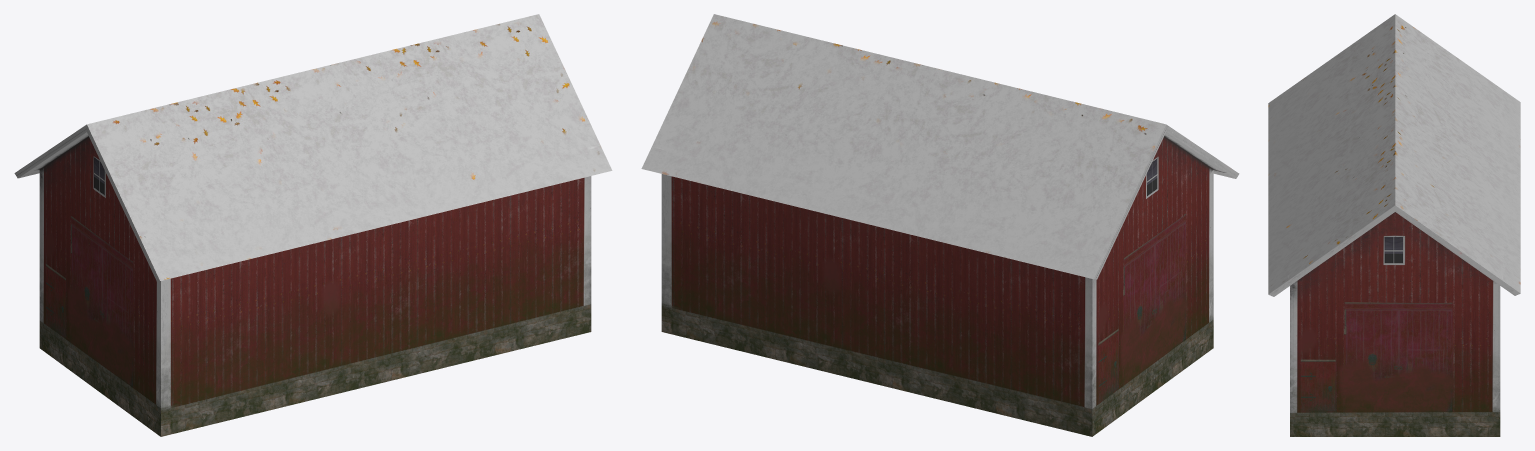
The model's file is vv_granero_simple.glb.
The picture shows the model from 3 angles, left to right: view 1: azimuth 30°, elevation 25°; view 2: azimuth 150°, elevation 25°; view 3: azimuth 270°, elevation 25°; orthographic projection. The views are drawn at different scales.
Parts seen in each view (by area): view 1: barn_one; view 2: barn_one; view 3: barn_one.
Boxes of the visible parts, left/top/right/bottom form: barn_one: left=14, top=14, right=612, bottom=436; barn_one: left=641, top=14, right=1239, bottom=436; barn_one: left=1268, top=14, right=1520, bottom=436.
Bounding box in the file's own units: 15.64 × 8.97 × 8.73.
Materials: 1 (1 with a texture image).
